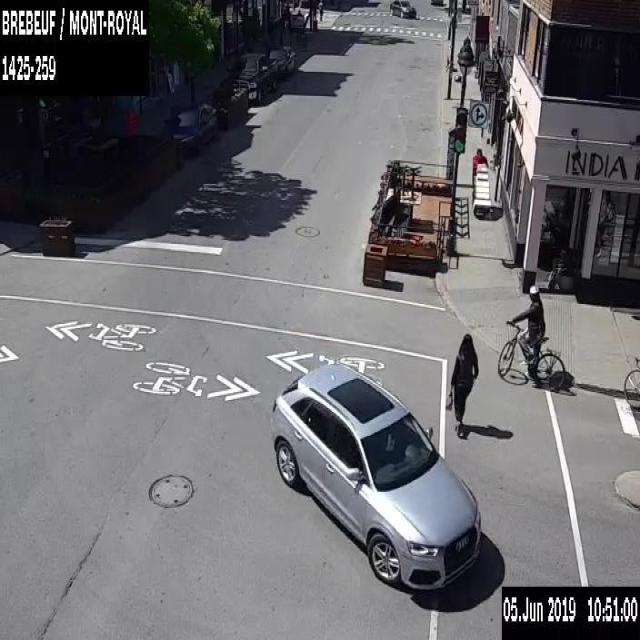cyclist: (496, 283, 566, 392)
pedestrian: (448, 333, 477, 439), (469, 146, 494, 217), (317, 0, 324, 23)
vehicle: (268, 359, 481, 592), (156, 97, 218, 159), (226, 53, 276, 105), (264, 41, 296, 78), (388, 0, 416, 19)
